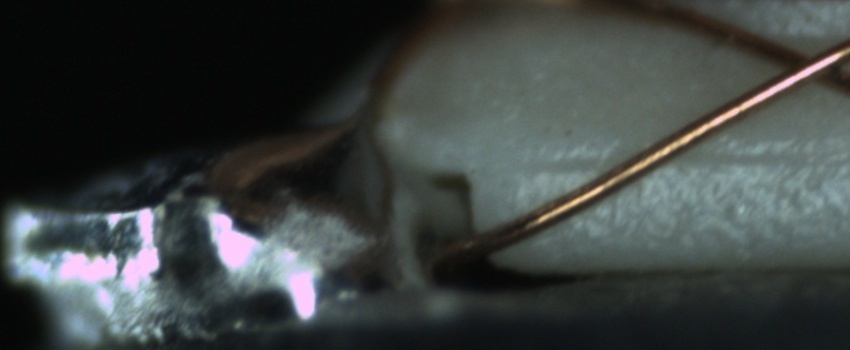CL: (757, 34, 846, 94)
DL: (529, 131, 849, 188)
